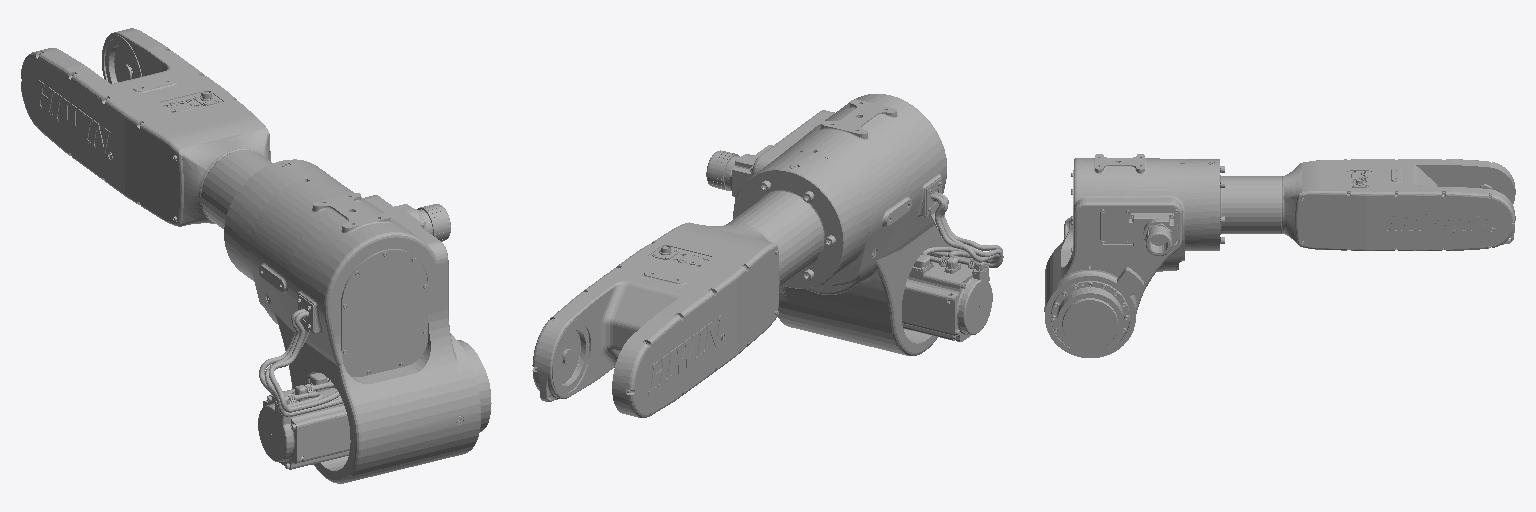
URDF robot description (angle_excurate_arm_ver2):
<?xml version="1.0" ?>
<!-- =================================================================================== -->
<!-- |    This document was autogenerated by xacro from urdf/angle_excurate_arm_ver2.xacro | -->
<!-- |    EDITING THIS FILE BY HAND IS NOT RECOMMENDED                                 | -->
<!-- =================================================================================== -->
<robot xmlns:xacro="http://www.ros.org/wiki/xacro" name="angle_excurate_arm_ver2">
  <material name="silver">
    <color rgba="0.700 0.700 0.700 1.000"/>
  </material>
  <transmission name="Revolute 1_tran">
    <type>transmission_interface/SimpleTransmission</type>
    <joint name="Revolute 1">
      <hardwareInterface>hardware_interface/EffortJointInterface</hardwareInterface>
    </joint>
    <actuator name="Revolute 1_actr">
      <hardwareInterface>hardware_interface/EffortJointInterface</hardwareInterface>
      <mechanicalReduction>1</mechanicalReduction>
    </actuator>
  </transmission>
  <transmission name="Revolute 2_tran">
    <type>transmission_interface/SimpleTransmission</type>
    <joint name="Revolute 2">
      <hardwareInterface>hardware_interface/EffortJointInterface</hardwareInterface>
    </joint>
    <actuator name="Revolute 2_actr">
      <hardwareInterface>hardware_interface/EffortJointInterface</hardwareInterface>
      <mechanicalReduction>1</mechanicalReduction>
    </actuator>
  </transmission>
  <transmission name="Revolute 3_tran">
    <type>transmission_interface/SimpleTransmission</type>
    <joint name="Revolute 3">
      <hardwareInterface>hardware_interface/EffortJointInterface</hardwareInterface>
    </joint>
    <actuator name="Revolute 3_actr">
      <hardwareInterface>hardware_interface/EffortJointInterface</hardwareInterface>
      <mechanicalReduction>1</mechanicalReduction>
    </actuator>
  </transmission>
  <transmission name="Revolute 4_tran">
    <type>transmission_interface/SimpleTransmission</type>
    <joint name="Revolute 4">
      <hardwareInterface>hardware_interface/EffortJointInterface</hardwareInterface>
    </joint>
    <actuator name="Revolute 4_actr">
      <hardwareInterface>hardware_interface/EffortJointInterface</hardwareInterface>
      <mechanicalReduction>1</mechanicalReduction>
    </actuator>
  </transmission>
  <transmission name="Revolute 5_tran">
    <type>transmission_interface/SimpleTransmission</type>
    <joint name="Revolute 5">
      <hardwareInterface>hardware_interface/EffortJointInterface</hardwareInterface>
    </joint>
    <actuator name="Revolute 5_actr">
      <hardwareInterface>hardware_interface/EffortJointInterface</hardwareInterface>
      <mechanicalReduction>1</mechanicalReduction>
    </actuator>
  </transmission>
  <transmission name="Revolute 6_tran">
    <type>transmission_interface/SimpleTransmission</type>
    <joint name="Revolute 6">
      <hardwareInterface>hardware_interface/EffortJointInterface</hardwareInterface>
    </joint>
    <actuator name="Revolute 6_actr">
      <hardwareInterface>hardware_interface/EffortJointInterface</hardwareInterface>
      <mechanicalReduction>1</mechanicalReduction>
    </actuator>
  </transmission>
  <gazebo>
    <plugin name="control" filename="libgazebo_ros_control.so"/>
  </gazebo>
  <gazebo reference="base_link">
    <material>Gazebo/Silver</material>
    <mu1>0.2</mu1>
    <mu2>0.2</mu2>
    <selfCollide>true</selfCollide>
    <gravity>true</gravity>
  </gazebo>
  <gazebo reference="base_link2_v2_1">
    <material>Gazebo/Silver</material>
    <mu1>0.2</mu1>
    <mu2>0.2</mu2>
    <selfCollide>true</selfCollide>
  </gazebo>
  <gazebo reference="link3_v1_1">
    <material>Gazebo/Silver</material>
    <mu1>0.2</mu1>
    <mu2>0.2</mu2>
    <selfCollide>true</selfCollide>
  </gazebo>
  <gazebo reference="link4_v1_1">
    <material>Gazebo/Silver</material>
    <mu1>0.2</mu1>
    <mu2>0.2</mu2>
    <selfCollide>true</selfCollide>
  </gazebo>
  <gazebo reference="robot_ver7_link_4_v1_1">
    <material>Gazebo/Silver</material>
    <mu1>0.2</mu1>
    <mu2>0.2</mu2>
    <selfCollide>true</selfCollide>
  </gazebo>
  <gazebo reference="robot_ver7_grap2_2_v1_1">
    <material>Gazebo/Silver</material>
    <mu1>0.2</mu1>
    <mu2>0.2</mu2>
    <selfCollide>true</selfCollide>
  </gazebo>
  <gazebo reference="robot_ver7_grap1_2_v1_1">
    <material>Gazebo/Silver</material>
    <mu1>0.2</mu1>
    <mu2>0.2</mu2>
    <selfCollide>true</selfCollide>
  </gazebo>
  <link name="base_link">
    <inertial>
      <origin xyz="2.9893753740438394 1.116432904659099 0.029849440895135016" rpy="0 0 0"/>
      <mass value="1.6067306789990348"/>
      <inertia ixx="0.003521" iyy="0.006468" izz="0.008802" ixy="0.0" iyz="-0.0" ixz="0.0"/>
    </inertial>
    <visual>
      <origin xyz="0 0 0" rpy="0 0 0"/>
      <geometry>
        <mesh filename="package://angle_excurate_arm_ver2_description/meshes/base_link.stl" scale="0.001 0.001 0.001"/>
      </geometry>
      <material name="silver"/>
    </visual>
    <collision>
      <origin xyz="0 0 0" rpy="0 0 0"/>
      <geometry>
        <mesh filename="package://angle_excurate_arm_ver2_description/meshes/base_link.stl" scale="0.001 0.001 0.001"/>
      </geometry>
    </collision>
  </link>
  <link name="base_link2_v2_1">
    <inertial>
      <origin xyz="3.7404378527838844e-07 7.073274099766991e-08 0.04484445545928446" rpy="0 0 0"/>
      <mass value="0.8724221516717809"/>
      <inertia ixx="0.000636" iyy="0.000529" izz="0.000308" ixy="-0.0" iyz="0.0" ixz="-0.0"/>
    </inertial>
    <visual>
      <origin xyz="-2.989375 -1.116433 -0.075907" rpy="0 0 0"/>
      <geometry>
        <mesh filename="package://angle_excurate_arm_ver2_description/meshes/base_link2_v2_1.stl" scale="0.001 0.001 0.001"/>
      </geometry>
      <material name="silver"/>
    </visual>
    <collision>
      <origin xyz="-2.989375 -1.116433 -0.075907" rpy="0 0 0"/>
      <geometry>
        <mesh filename="package://angle_excurate_arm_ver2_description/meshes/base_link2_v2_1.stl" scale="0.001 0.001 0.001"/>
      </geometry>
    </collision>
  </link>
  <link name="link3_v1_1">
    <inertial>
      <origin xyz="0.08484430230025541 -1.520309589331248e-08 0.10111258233522977" rpy="0 0 0"/>
      <mass value="1.7894494256516058"/>
      <inertia ixx="0.00475" iyy="0.007559" izz="0.003484" ixy="-0.0" iyz="-0.0" ixz="-0.003589"/>
    </inertial>
    <visual>
      <origin xyz="-2.989375 -1.116433 -0.146249" rpy="0 0 0"/>
      <geometry>
        <mesh filename="package://angle_excurate_arm_ver2_description/meshes/link3_v1_1.stl" scale="0.001 0.001 0.001"/>
      </geometry>
      <material name="silver"/>
    </visual>
    <collision>
      <origin xyz="-2.989375 -1.116433 -0.146249" rpy="0 0 0"/>
      <geometry>
        <mesh filename="package://angle_excurate_arm_ver2_description/meshes/link3_v1_1.stl" scale="0.001 0.001 0.001"/>
      </geometry>
    </collision>
  </link>
  <link name="link4_v1_1">
    <inertial>
      <origin xyz="0.1482264138500775 -9.6959044348921e-08 0.01783008469499825" rpy="0 0 0"/>
      <mass value="2.301167222256875"/>
      <inertia ixx="0.001028" iyy="0.010731" izz="0.010331" ixy="-0.0" iyz="0.0" ixz="-0.000548"/>
    </inertial>
    <visual>
      <origin xyz="-3.127152 -1.116433 -0.310444" rpy="0 0 0"/>
      <geometry>
        <mesh filename="package://angle_excurate_arm_ver2_description/meshes/link4_v1_1.stl" scale="0.001 0.001 0.001"/>
      </geometry>
      <material name="silver"/>
    </visual>
    <collision>
      <origin xyz="-3.127152 -1.116433 -0.310444" rpy="0 0 0"/>
      <geometry>
        <mesh filename="package://angle_excurate_arm_ver2_description/meshes/link4_v1_1.stl" scale="0.001 0.001 0.001"/>
      </geometry>
    </collision>
  </link>
  <link name="robot_ver7_link_4_v1_1">
    <inertial>
      <origin xyz="0.01789286974697868 -9.695904212847495e-08 0.0031552779596022984" rpy="0 0 0"/>
      <mass value="0.1836674229836172"/>
      <inertia ixx="9.9e-05" iyy="0.000103" izz="7.2e-05" ixy="0.0" iyz="0.0" ixz="5e-06"/>
    </inertial>
    <visual>
      <origin xyz="-3.357435 -1.116433 -0.35257" rpy="0 0 0"/>
      <geometry>
        <mesh filename="package://angle_excurate_arm_ver2_description/meshes/robot_ver7_link_4_v1_1.stl" scale="0.001 0.001 0.001"/>
      </geometry>
      <material name="silver"/>
    </visual>
    <collision>
      <origin xyz="-3.357435 -1.116433 -0.35257" rpy="0 0 0"/>
      <geometry>
        <mesh filename="package://angle_excurate_arm_ver2_description/meshes/robot_ver7_link_4_v1_1.stl" scale="0.001 0.001 0.001"/>
      </geometry>
    </collision>
  </link>
  <link name="robot_ver7_grap2_2_v1_1">
    <inertial>
      <origin xyz="0.03188502329176801 -0.005587167552119965 0.008275354159303638" rpy="0 0 0"/>
      <mass value="0.04062678364092949"/>
      <inertia ixx="4e-06" iyy="2.6e-05" izz="2.5e-05" ixy="-0.0" iyz="-0.0" ixz="-6e-06"/>
    </inertial>
    <visual>
      <origin xyz="-3.398994 -1.103933 -0.359898" rpy="0 0 0"/>
      <geometry>
        <mesh filename="package://angle_excurate_arm_ver2_description/meshes/robot_ver7_grap2_2_v1_1.stl" scale="0.001 0.001 0.001"/>
      </geometry>
      <material name="silver"/>
    </visual>
    <collision>
      <origin xyz="-3.398994 -1.103933 -0.359898" rpy="0 0 0"/>
      <geometry>
        <mesh filename="package://angle_excurate_arm_ver2_description/meshes/robot_ver7_grap2_2_v1_1.stl" scale="0.001 0.001 0.001"/>
      </geometry>
    </collision>
  </link>
  <link name="robot_ver7_grap1_2_v1_1">
    <inertial>
      <origin xyz="0.03188502329176801 0.005586973634027714 0.008275354159306136" rpy="0 0 0"/>
      <mass value="0.040626783640931655"/>
      <inertia ixx="4e-06" iyy="2.6e-05" izz="2.5e-05" ixy="0.0" iyz="0.0" ixz="-6e-06"/>
    </inertial>
    <visual>
      <origin xyz="-3.398994 -1.128933 -0.359898" rpy="0 0 0"/>
      <geometry>
        <mesh filename="package://angle_excurate_arm_ver2_description/meshes/robot_ver7_grap1_2_v1_1.stl" scale="0.001 0.001 0.001"/>
      </geometry>
      <material name="silver"/>
    </visual>
    <collision>
      <origin xyz="-3.398994 -1.128933 -0.359898" rpy="0 0 0"/>
      <geometry>
        <mesh filename="package://angle_excurate_arm_ver2_description/meshes/robot_ver7_grap1_2_v1_1.stl" scale="0.001 0.001 0.001"/>
      </geometry>
    </collision>
  </link>
  <joint name="Revolute 1" type="revolute">
    <origin xyz="2.989375 1.116433 0.075907" rpy="0 0 0"/>
    <parent link="base_link"/>
    <child link="base_link2_v2_1"/>
    <axis xyz="-0.0 -0.0 1.0"/>
    <limit upper="3.141593" lower="0.0" effort="100" velocity="100"/>
  </joint>
  <joint name="Revolute 2" type="revolute">
    <origin xyz="0.0 0.0 0.070342" rpy="0 0 0"/>
    <parent link="base_link2_v2_1"/>
    <child link="link3_v1_1"/>
    <axis xyz="-0.0 -1.0 -0.0"/>
    <limit upper="2.094395" lower="0.0" effort="100" velocity="100"/>
  </joint>
  <joint name="Revolute 3" type="revolute">
    <origin xyz="0.137777 0.0 0.164195" rpy="0 0 0"/>
    <parent link="link3_v1_1"/>
    <child link="link4_v1_1"/>
    <axis xyz="-0.0 -1.0 -0.0"/>
    <limit upper="2.617994" lower="0.0" effort="100" velocity="100"/>
  </joint>
  <joint name="Revolute 4" type="revolute">
    <origin xyz="0.230283 0.0 0.042126" rpy="0 0 0"/>
    <parent link="link4_v1_1"/>
    <child link="robot_ver7_link_4_v1_1"/>
    <axis xyz="0.984808 -0.0 0.173648"/>
    <limit upper="3.141593" lower="0.0" effort="100" velocity="100"/>
  </joint>
  <joint name="Revolute 5" type="revolute">
    <origin xyz="0.041559 -0.0125 0.007328" rpy="0 0 0"/>
    <parent link="robot_ver7_link_4_v1_1"/>
    <child link="robot_ver7_grap2_2_v1_1"/>
    <axis xyz="0.173648 0.0 -0.984808"/>
    <limit upper="1.22173" lower="0.0" effort="100" velocity="100"/>
  </joint>
  <joint name="Revolute 6" type="revolute">
    <origin xyz="0.041559 0.0125 0.007328" rpy="0 0 0"/>
    <parent link="robot_ver7_link_4_v1_1"/>
    <child link="robot_ver7_grap1_2_v1_1"/>
    <axis xyz="-0.173648 -0.0 0.984808"/>
    <limit upper="1.22173" lower="0.0" effort="100" velocity="100"/>
    <mimic joint="Revolute 5" multiplier="-1.0"/>
    <!-- multiplier設定為-1.0表示反向模仿 -->
  </joint>
</robot>

--- What the picture shows (computed from the rendered views, not written in the file) ---
3 views of the same robot in one strip: view 1: azimuth 30°, elevation 25°; view 2: azimuth 150°, elevation 25°; view 3: azimuth 270°, elevation 25° (orthographic).
Model angle_excurate_arm_ver2 with 7 links and 6 joints (6 revolute), rooted at base_link, posed every joint at zero.
Visible links, largest first — view 1: link3_v1_1, link4_v1_1; view 2: link4_v1_1, link3_v1_1; view 3: link4_v1_1, link3_v1_1.
Link boxes in pixels (<box>): link3_v1_1: <box>249,177,491,483</box>; link4_v1_1: <box>21,28,339,280</box>; link4_v1_1: <box>532,150,869,417</box>; link3_v1_1: <box>706,94,1003,355</box>; link4_v1_1: <box>1184,159,1515,250</box>; link3_v1_1: <box>1044,154,1184,357</box>.
Bounding box of the posed robot: 0.3129 × 0.795 × 0.318 m (x, y, z).
Meshes: 7 distinct files referenced, 2 mesh visuals loaded (2 binary STL); not drawn: 5 (reference not matched to a file when rendering).